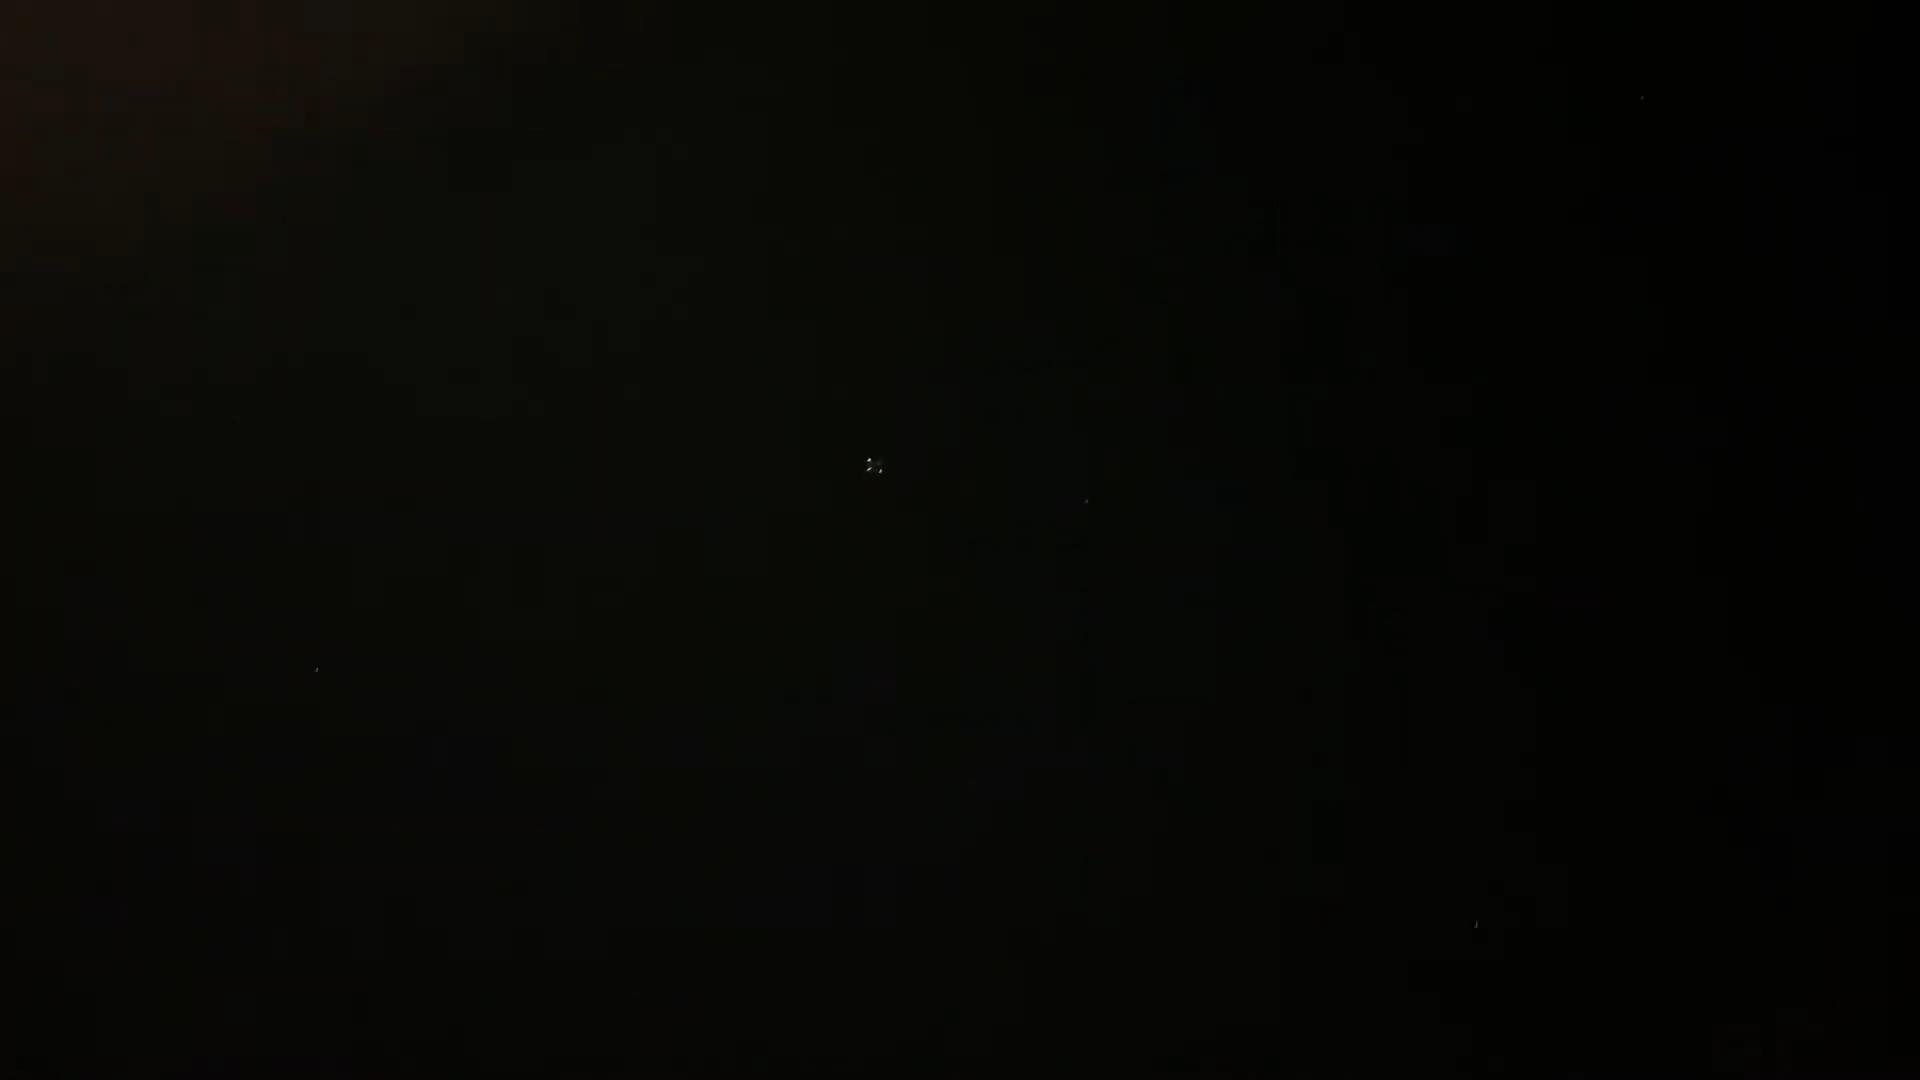Plane: (843, 444, 911, 491)
